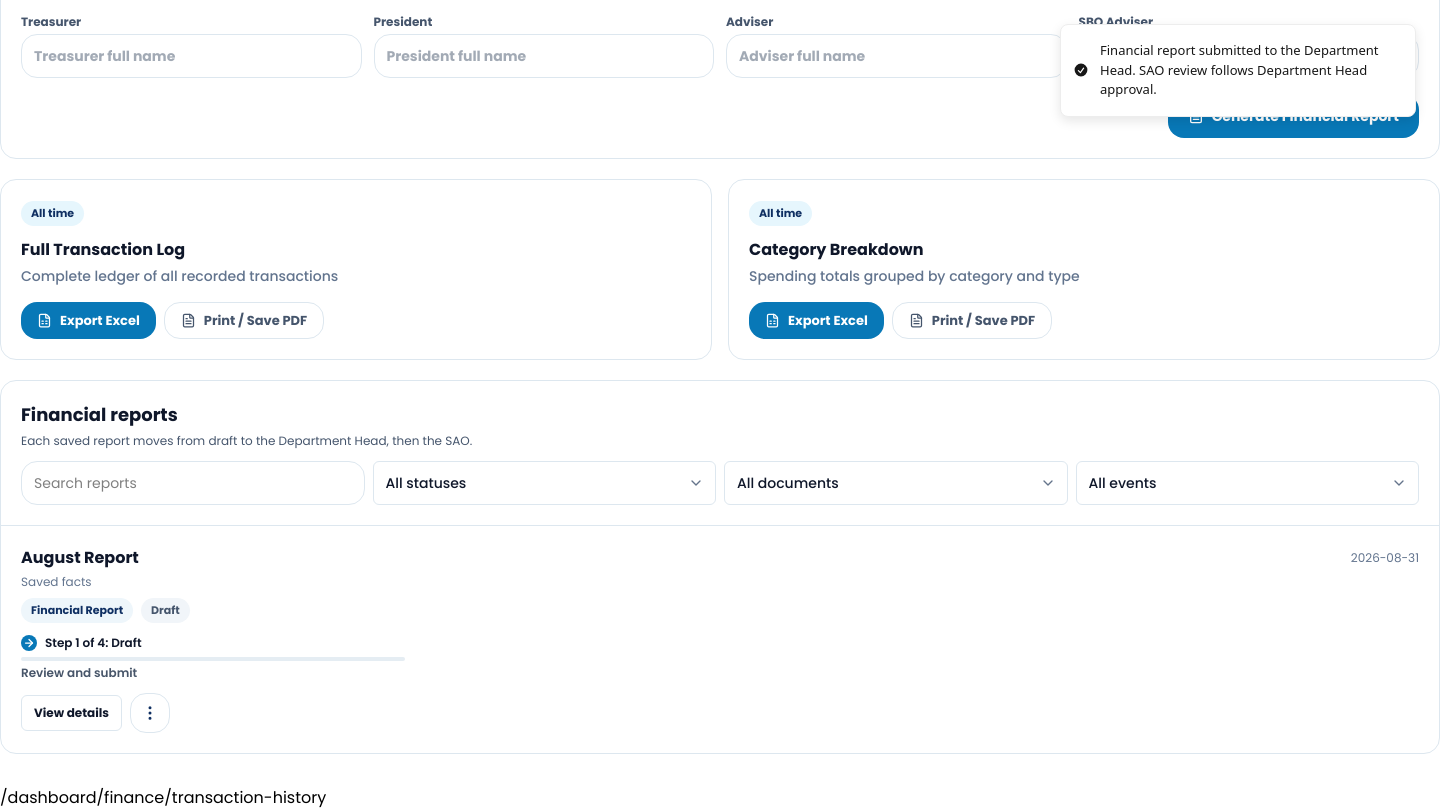
Test: FinancePage financial report lifecycle › opens a report detail from its row
(page scrolled)
Click the button named "Actions for ". click: (150, 712)
box: 130,692 -> 170,732
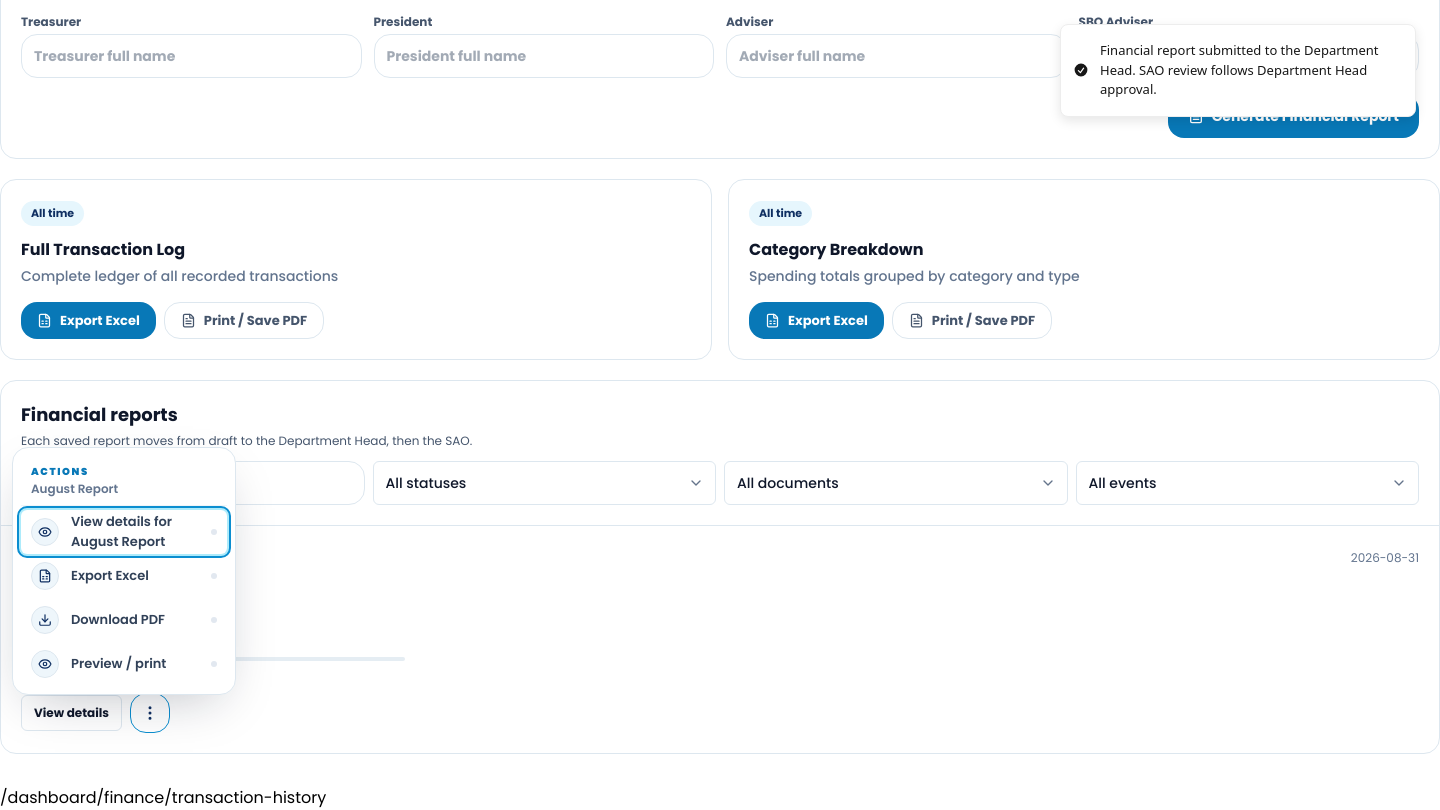
Click the menu item "View details for August Report". click: (124, 532)
box: 21,510 -> 227,554
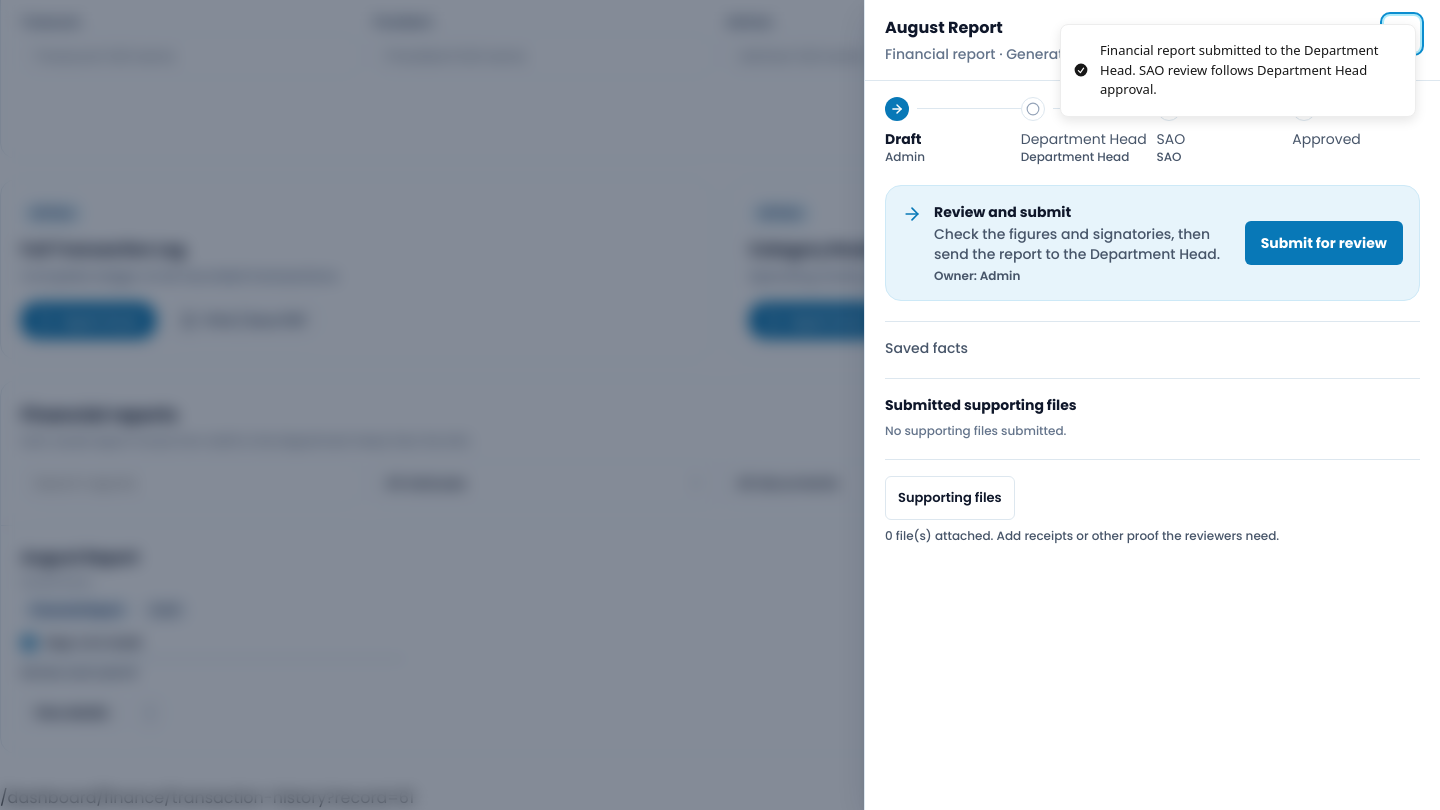
Now the dialog "August Report" is shown
